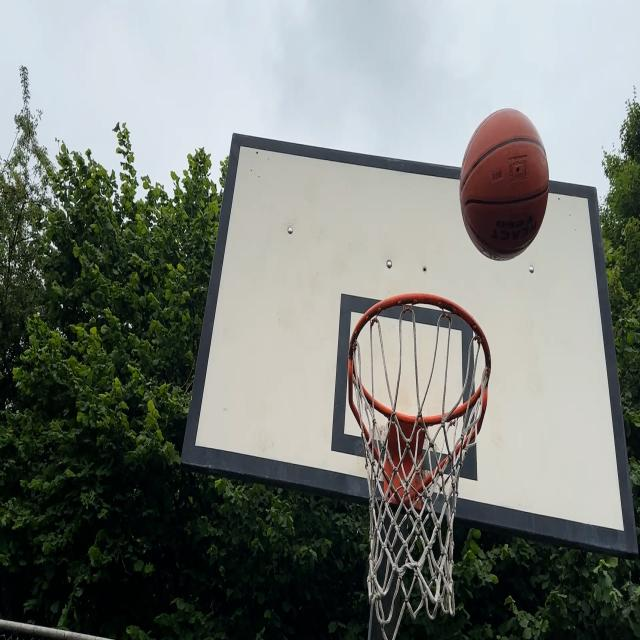Basketball: (463, 109, 553, 263)
